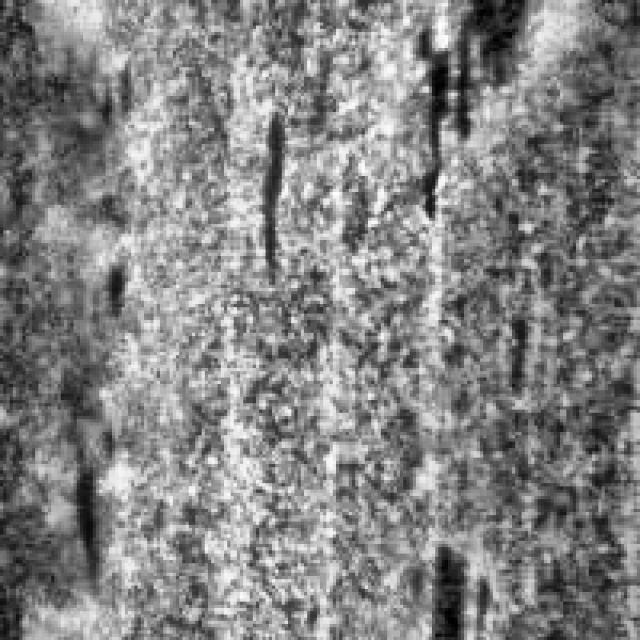Patches: (400, 0, 480, 230), (51, 368, 122, 614), (224, 96, 307, 291), (420, 528, 492, 637)
